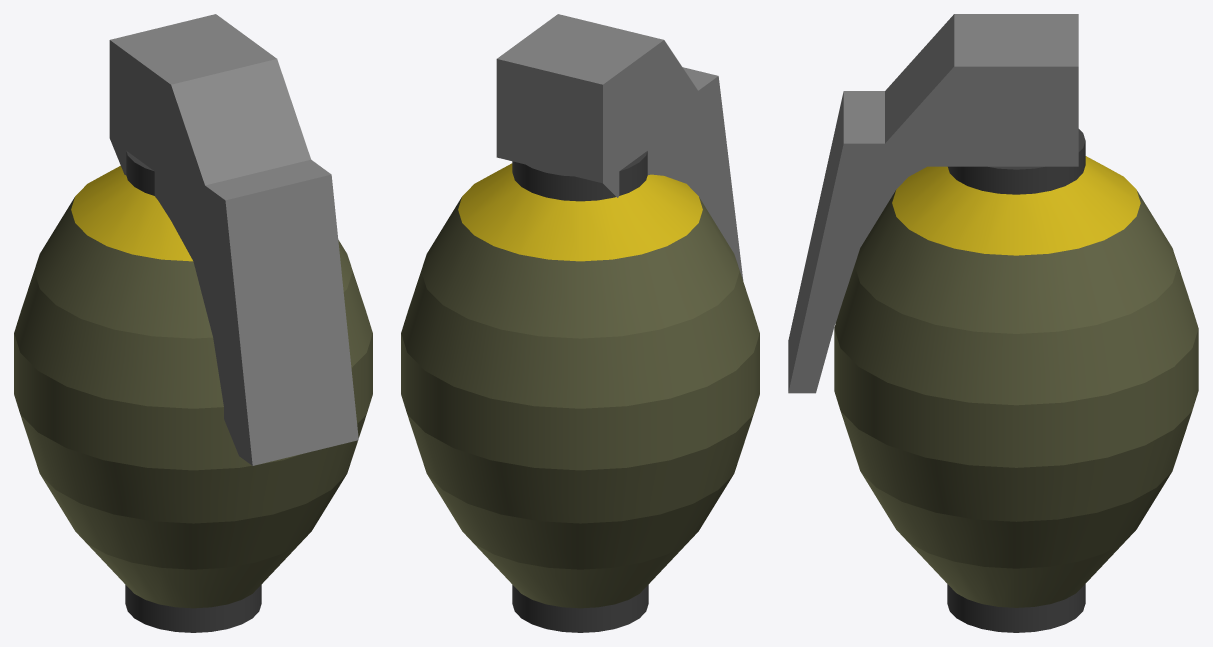
File: bomb.glb
3 renders of one model, left to right at view 1: azimuth 30°, elevation 25°; view 2: azimuth 150°, elevation 25°; view 3: azimuth 270°, elevation 25°, orthographic.
Parts seen in each view (by area): view 1: mergedBlocks(Clone); view 2: mergedBlocks(Clone); view 3: mergedBlocks(Clone).
Part boxes in pixels (x1,y1,x2,y2): mergedBlocks(Clone): [14, 14, 372, 632]; mergedBlocks(Clone): [401, 14, 759, 632]; mergedBlocks(Clone): [788, 14, 1198, 632].
Bounding box in the file's own units: 0.0633 × 0.108 × 0.0713.
